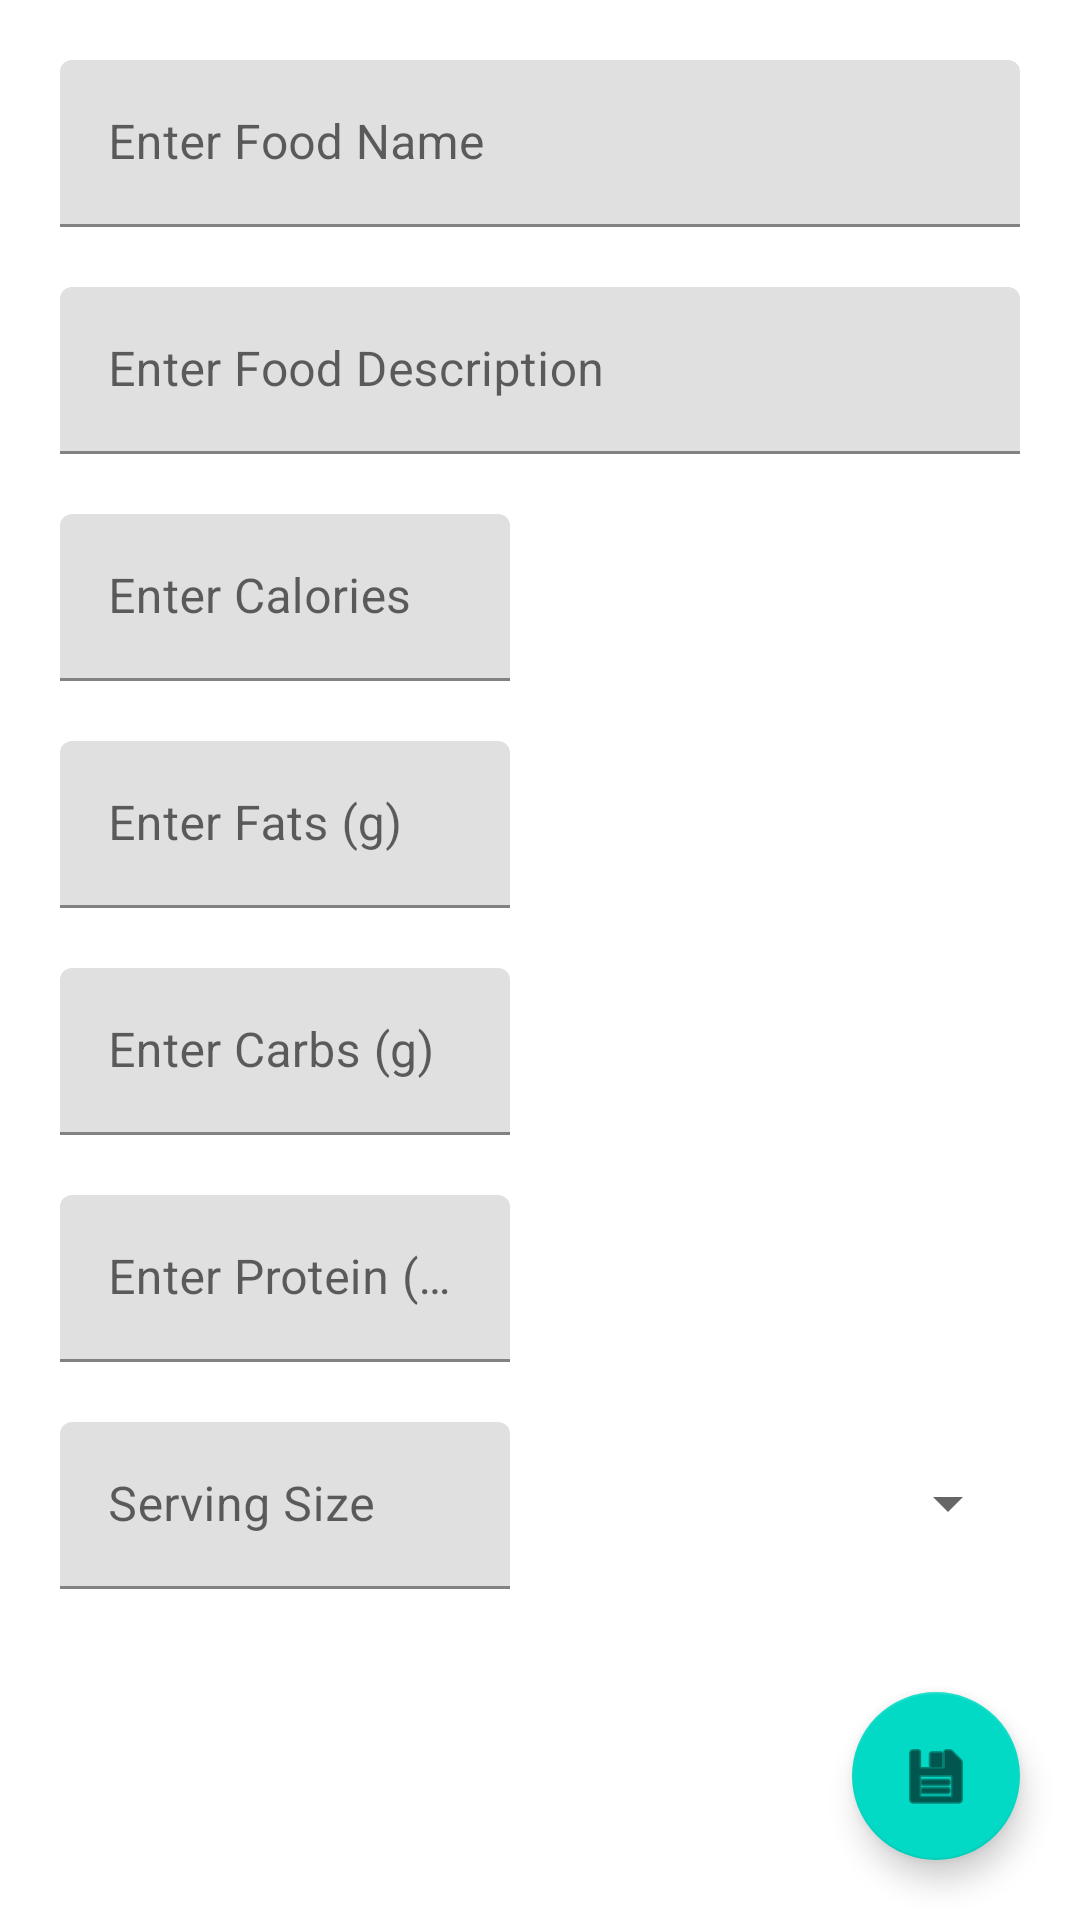

Named icons in this screenshot (1080x1920) and their centers, (x,y):
save: (936,1776)
